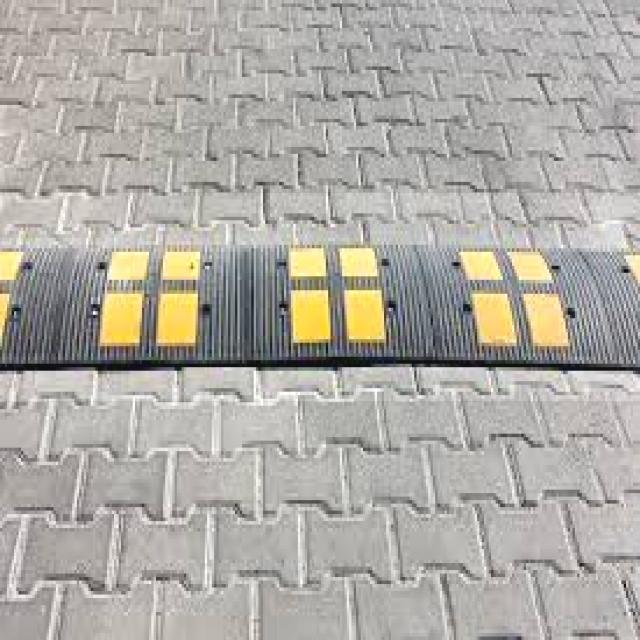speed-bump: (0, 193, 640, 401)
